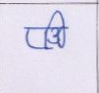i_matra: (53, 11, 68, 48)
